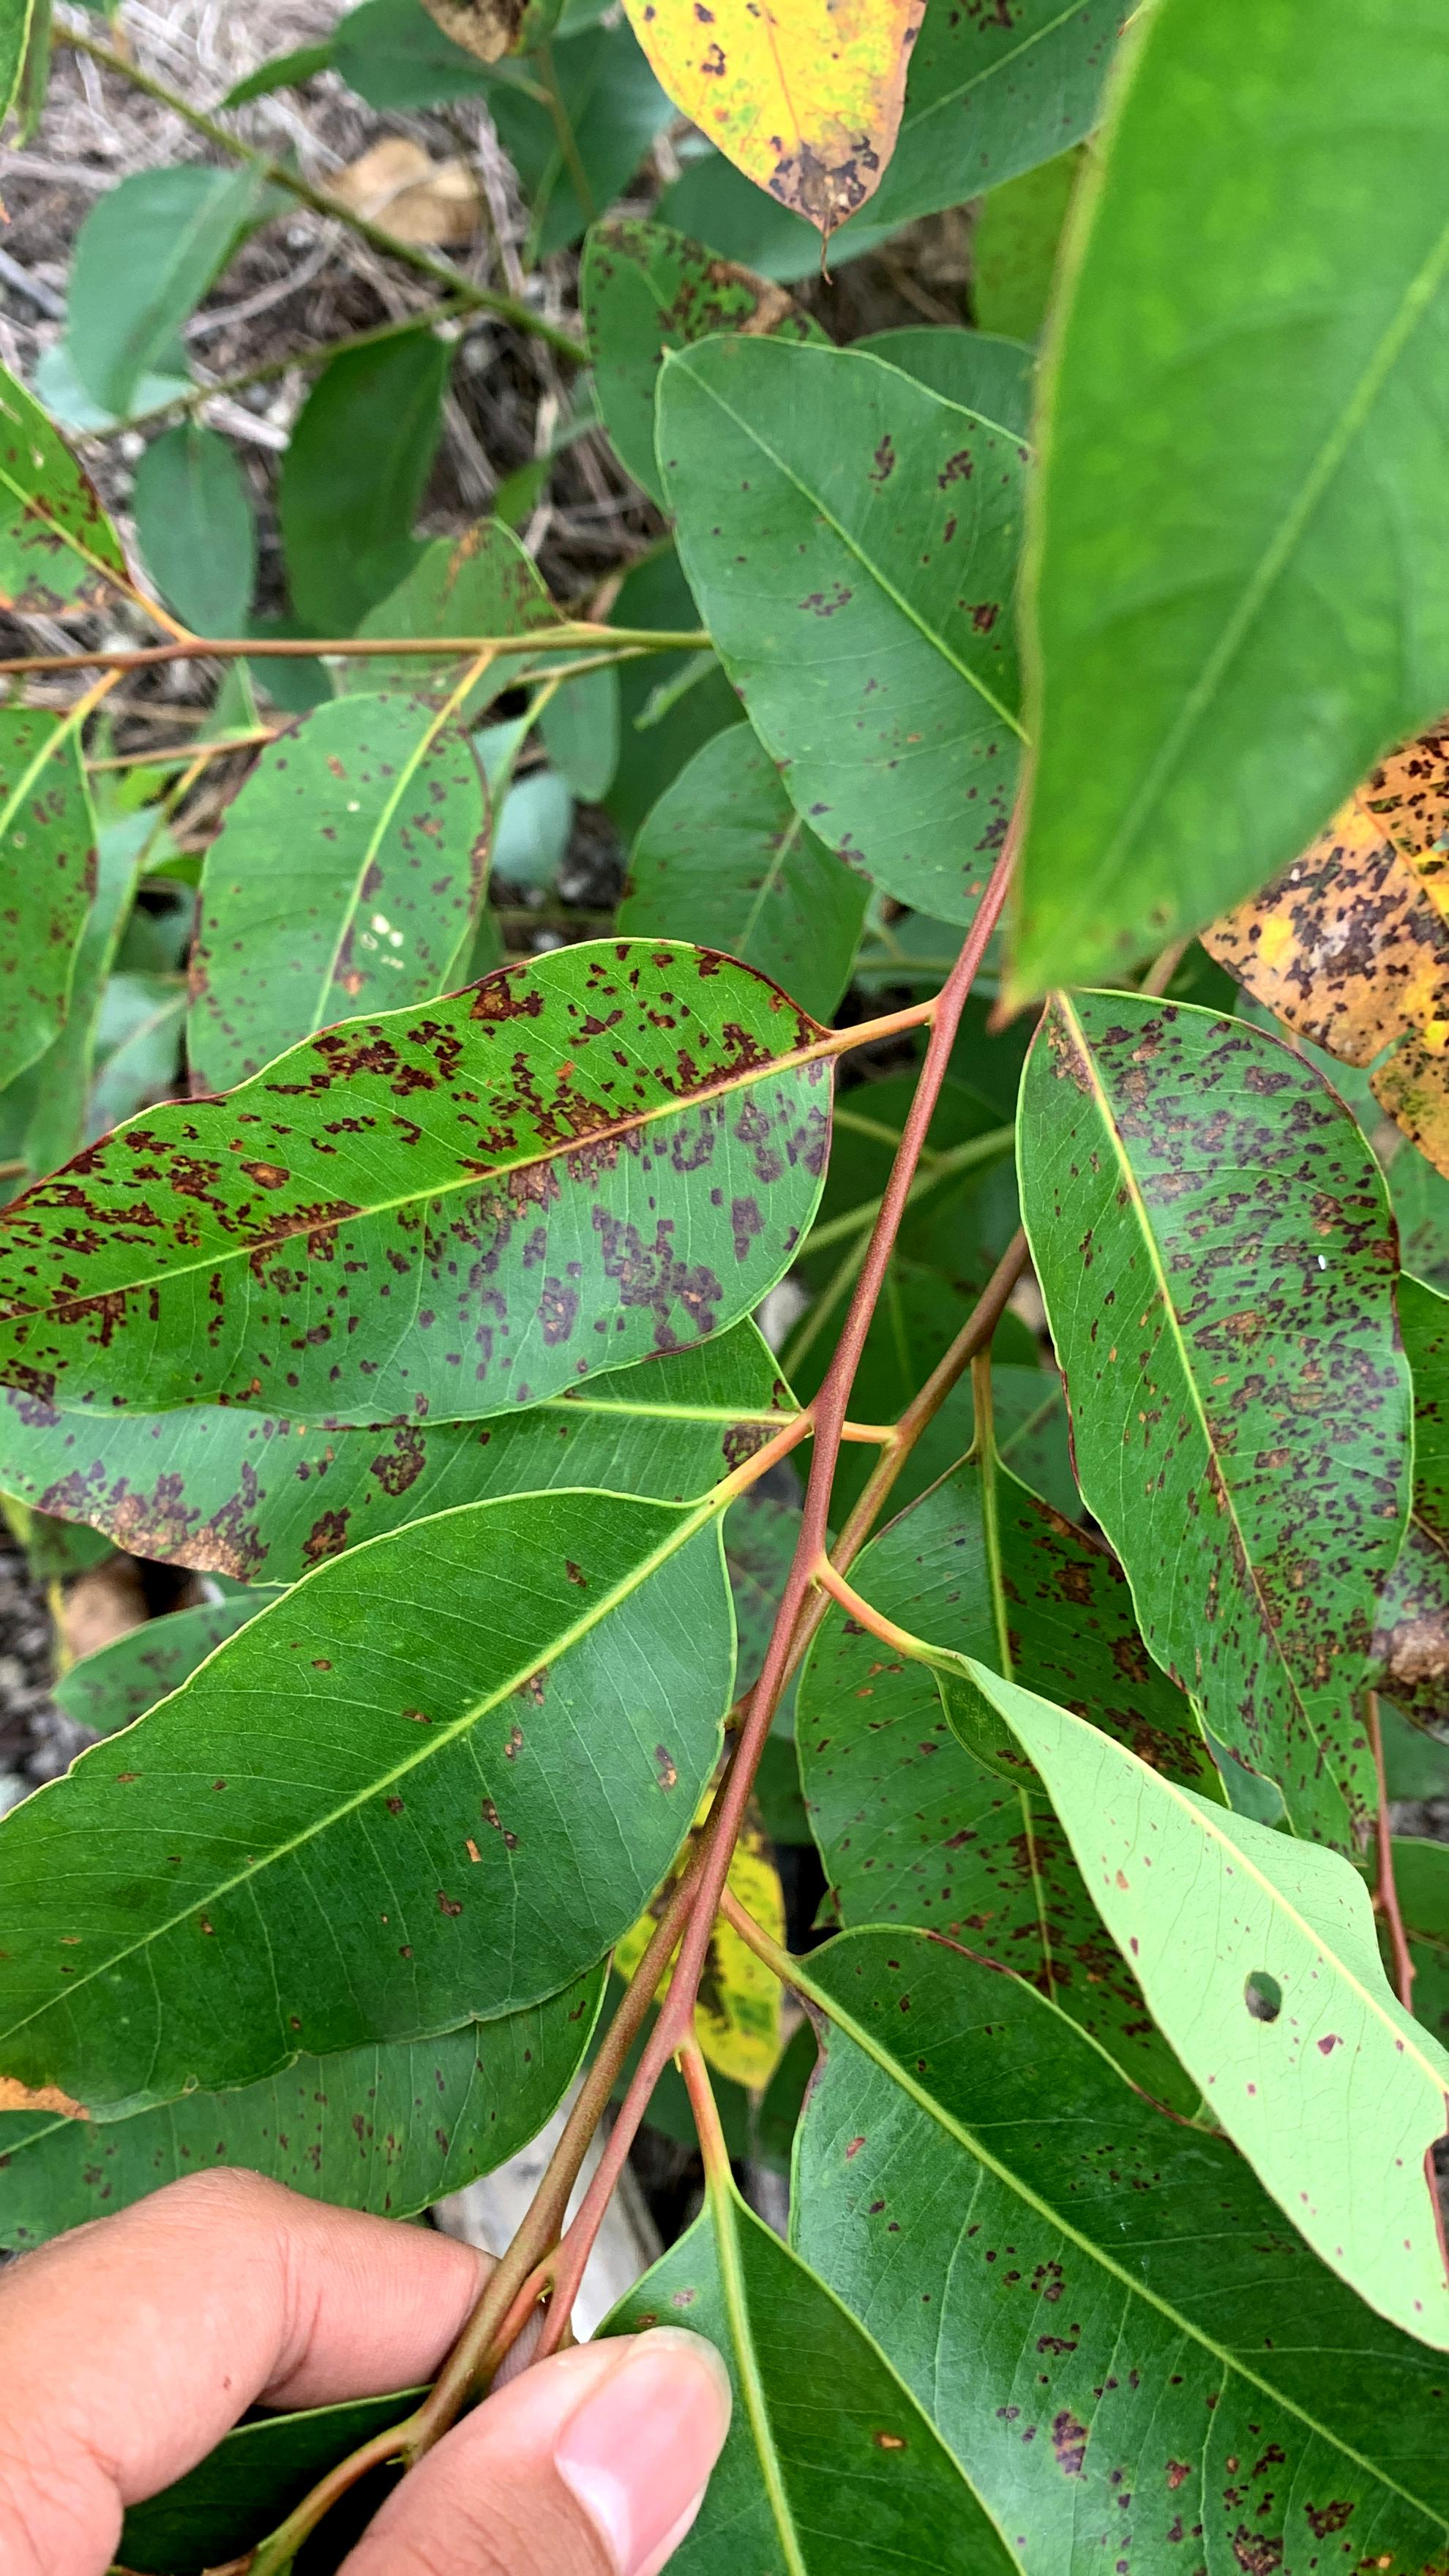Xanthomonas: (0, 954, 872, 1488), (1008, 978, 1414, 1810), (1201, 632, 1449, 1161)
